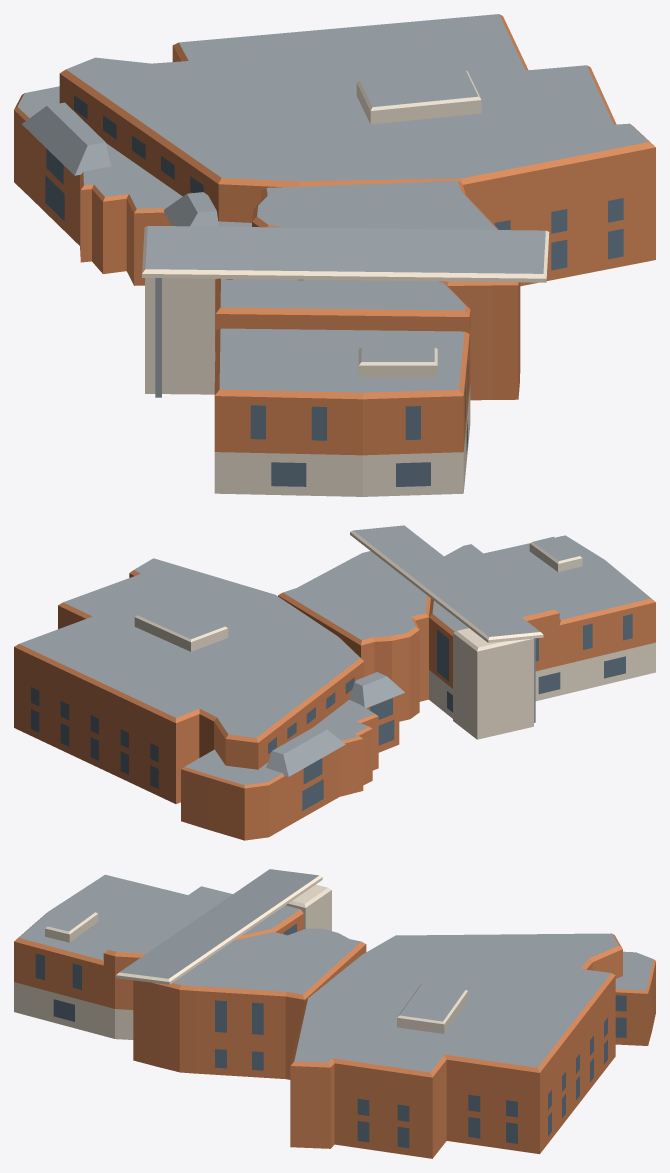
3 views of the same model, one above another, from view 1: azimuth 30°, elevation 25°; view 2: azimuth 150°, elevation 25°; view 3: azimuth 270°, elevation 25° (orthographic). The views are drawn at different scales.
Parts seen in each view (by area): view 1: u-s-national-whitewater-center; view 2: u-s-national-whitewater-center; view 3: u-s-national-whitewater-center.
Part boxes in pixels (bbox=[...]): u-s-national-whitewater-center: bbox=[14, 14, 655, 496]; u-s-national-whitewater-center: bbox=[14, 525, 655, 840]; u-s-national-whitewater-center: bbox=[14, 869, 655, 1158].
Size of the model in its own units: 63.7 by 13.97 by 81.3.
